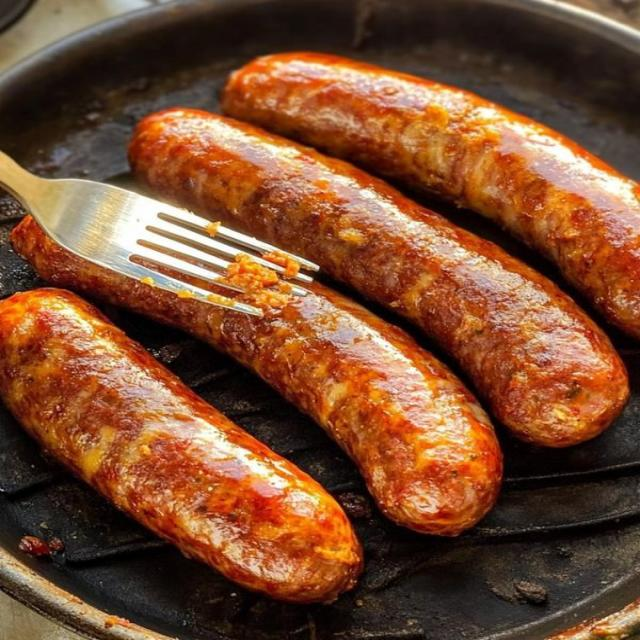sausage: (131, 110, 628, 447), (12, 217, 501, 535), (223, 53, 639, 337), (0, 289, 361, 602)
